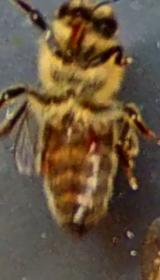varroa_mite: (74, 118, 108, 160)
